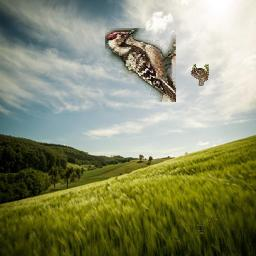Sparrow: (191, 64, 210, 86)
Woodpecker: (106, 28, 177, 102)
